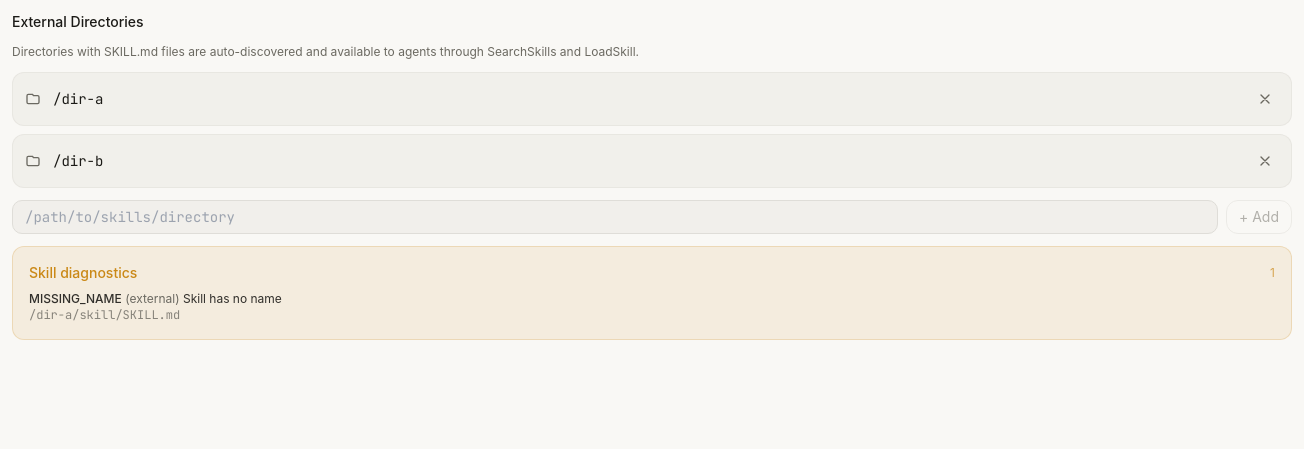
SkillDirsEditor › clears a stale error banner when a later operation succeeds
Type "/dir-c" into the field with placeholder "/path/to/skills/directory".
click(615, 217); type("/dir-c")  # box [12, 200, 1218, 234]
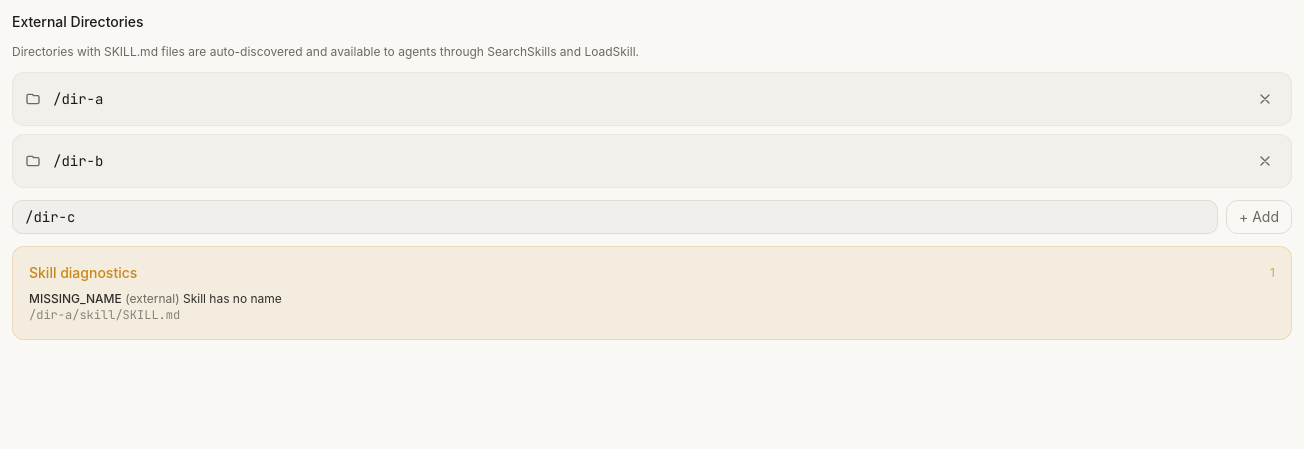
Click the button "+ Add".
click(1259, 217)  # box [1226, 200, 1292, 234]
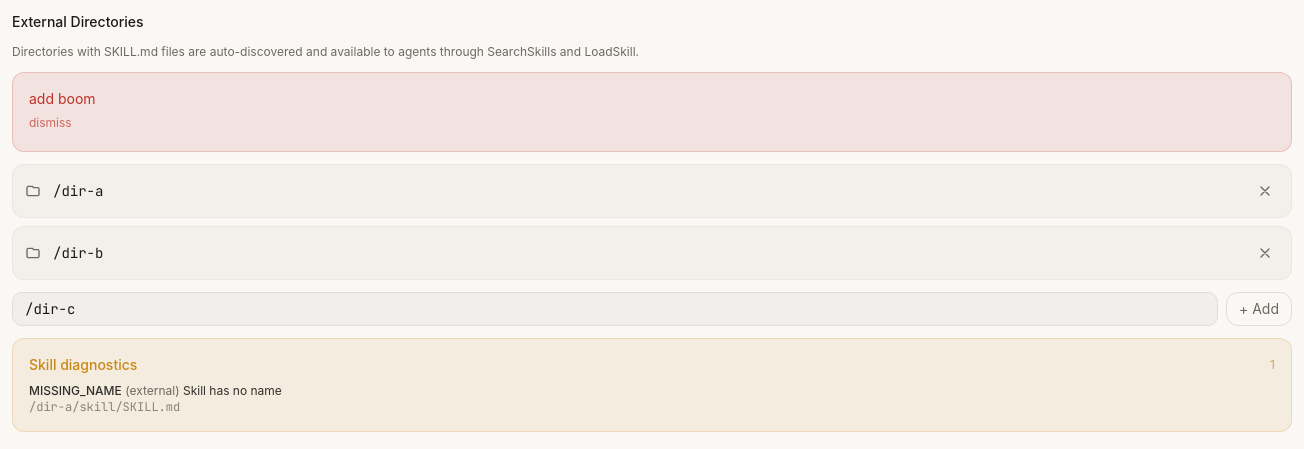
Expected: the text "add boom" is shown, [29, 90, 96, 107]
Click the 1st button titled "Remove".
click(1265, 191)  # box [1251, 177, 1279, 205]
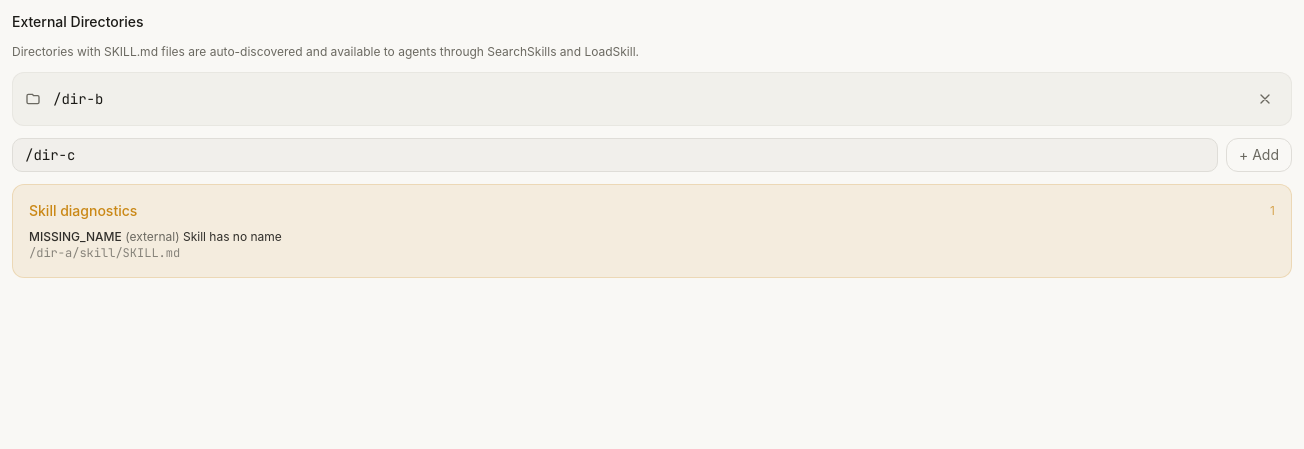
Expected: the text "add boom" is gone
